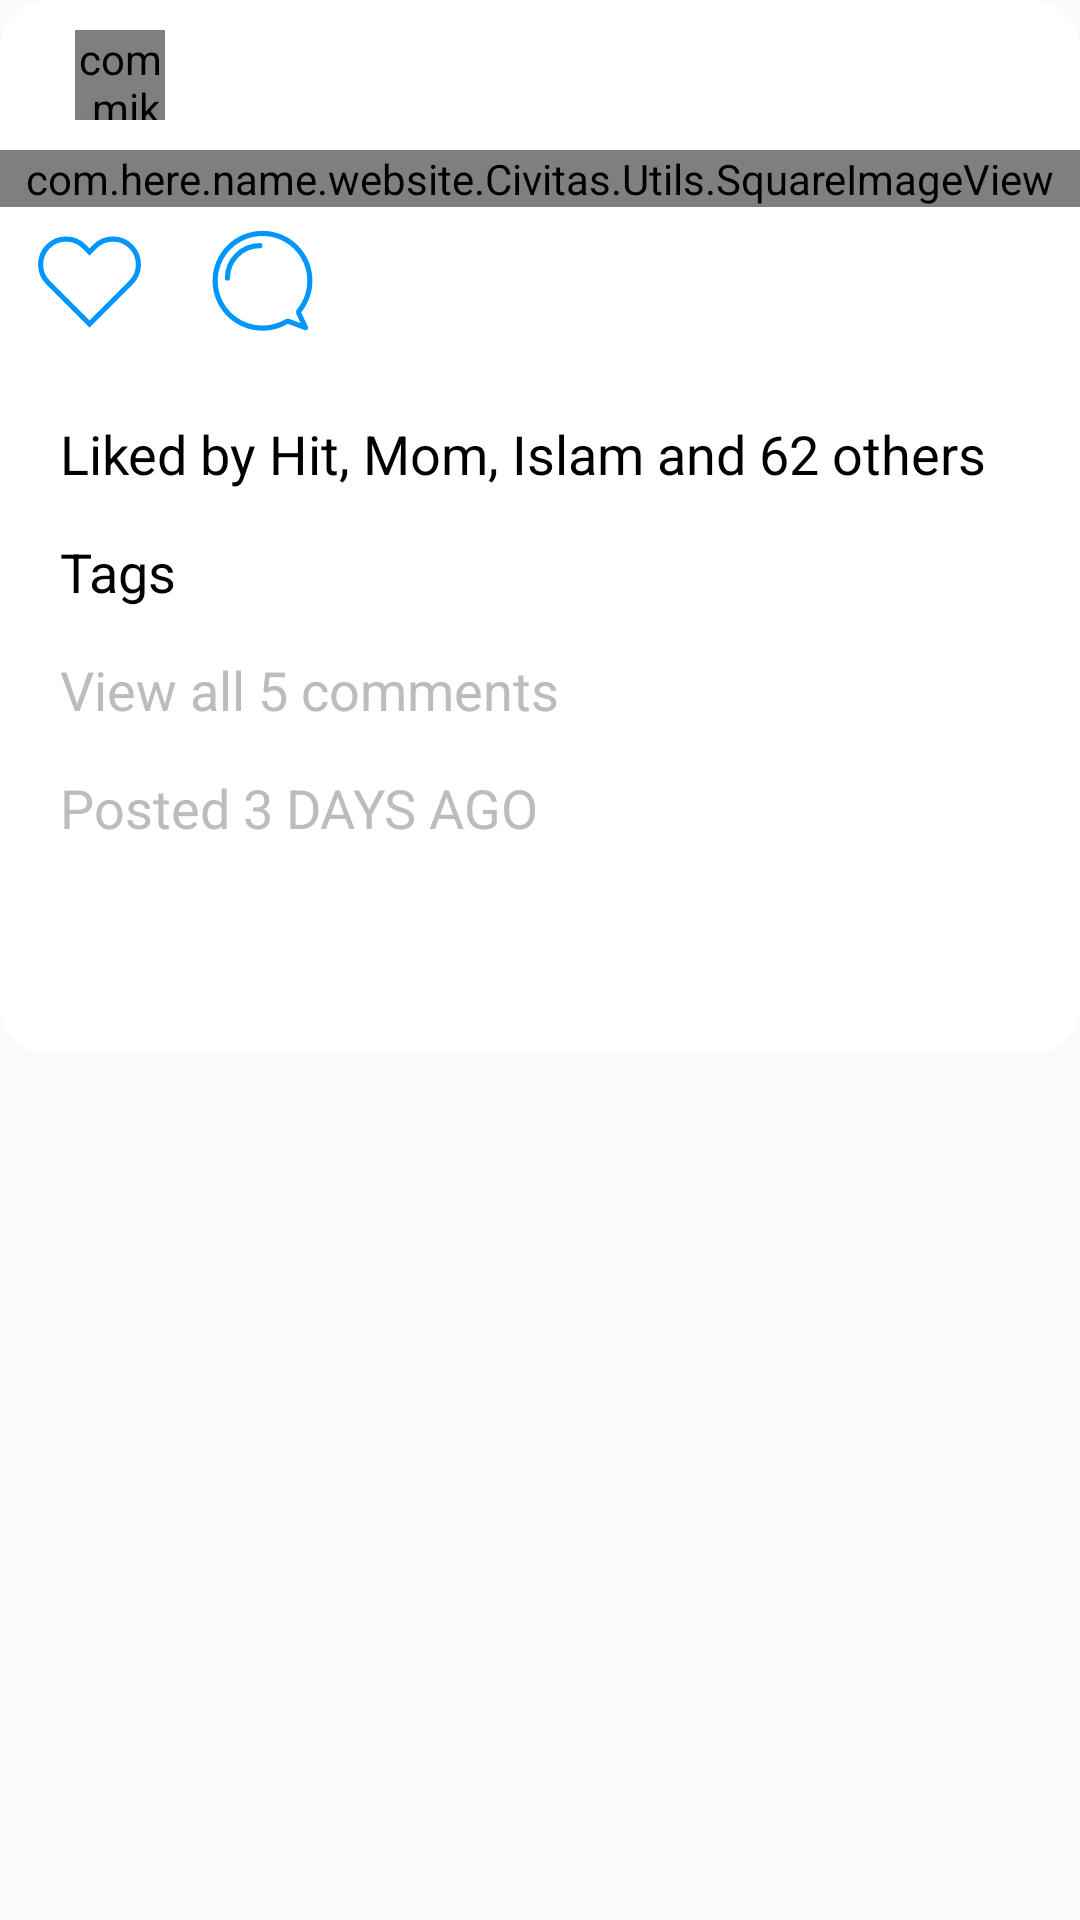

Icon bounding boxes for this 1080x1920 phone screenshot, format Rect(x1, y1, x2, y2):
comment: Rect(212, 230, 313, 331)
heart: Rect(38, 236, 141, 328)
